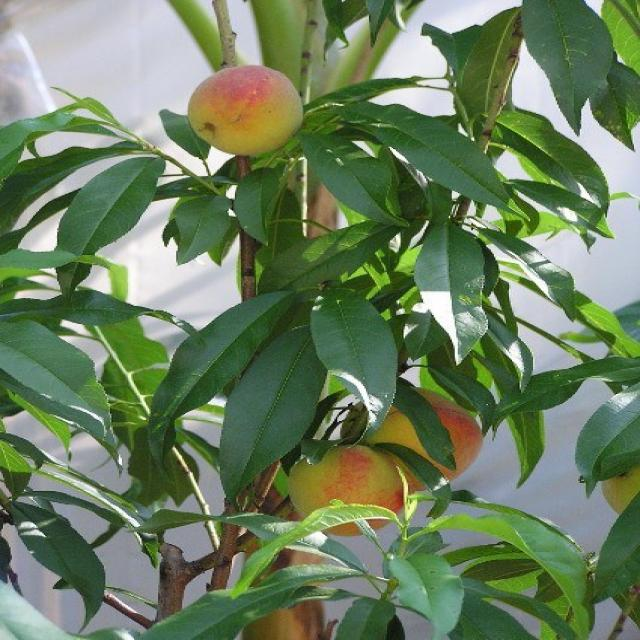peach: (184, 39, 578, 536)
